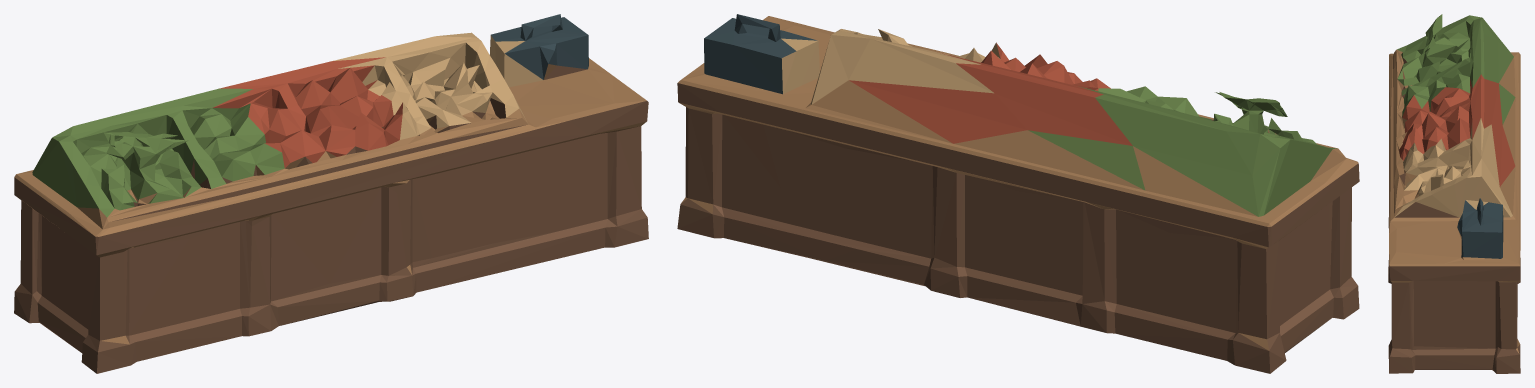
The model's file is grocery_counter.glb.
The picture shows the model from 3 angles, left to right: view 1: azimuth 30°, elevation 25°; view 2: azimuth 150°, elevation 25°; view 3: azimuth 270°, elevation 25°; orthographic projection. The views are drawn at different scales.
Visible parts, largest first — view 1: grocery_counter; view 2: grocery_counter; view 3: grocery_counter.
Part boxes in pixels (x1=…): grocery_counter: x1=14, y1=14, x2=648, y2=373; grocery_counter: x1=677, y1=14, x2=1359, y2=373; grocery_counter: x1=1388, y1=14, x2=1520, y2=373.
Bounding box in the file's own units: 3.8 × 1.36 × 1.
